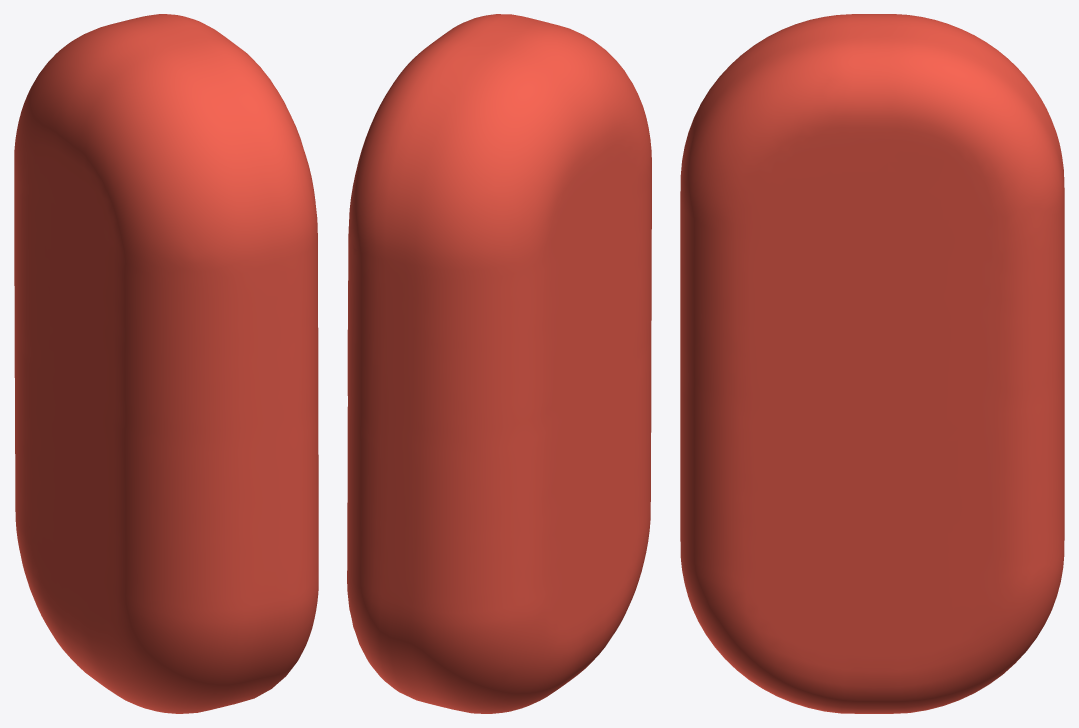
The model's file is Capsule_Pill_Individual_Red.glb.
3 views of the same model, side by side, from view 1: azimuth 30°, elevation 25°; view 2: azimuth 150°, elevation 25°; view 3: azimuth 270°, elevation 25° (orthographic). The views are drawn at different scales.
Parts seen in each view (by area): view 1: Capsule_Pill.015; view 2: Capsule_Pill.015; view 3: Capsule_Pill.015.
Part boxes in pixels (x1,y1,x2,y2): Capsule_Pill.015: (14, 14, 318, 713); Capsule_Pill.015: (347, 14, 651, 713); Capsule_Pill.015: (680, 14, 1064, 713).
Bounding box in the file's own units: 0.6131 × 2.16 × 1.13.
1 material, 1 textured.
